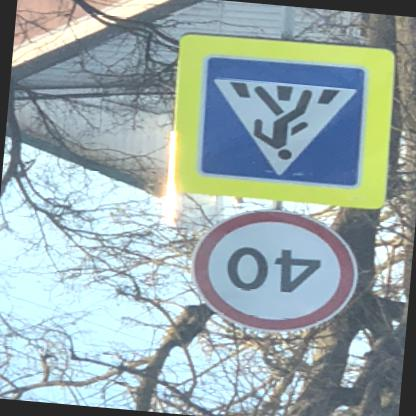crosswalk: (200, 55, 373, 190)
speedlimit: (192, 204, 364, 338)
